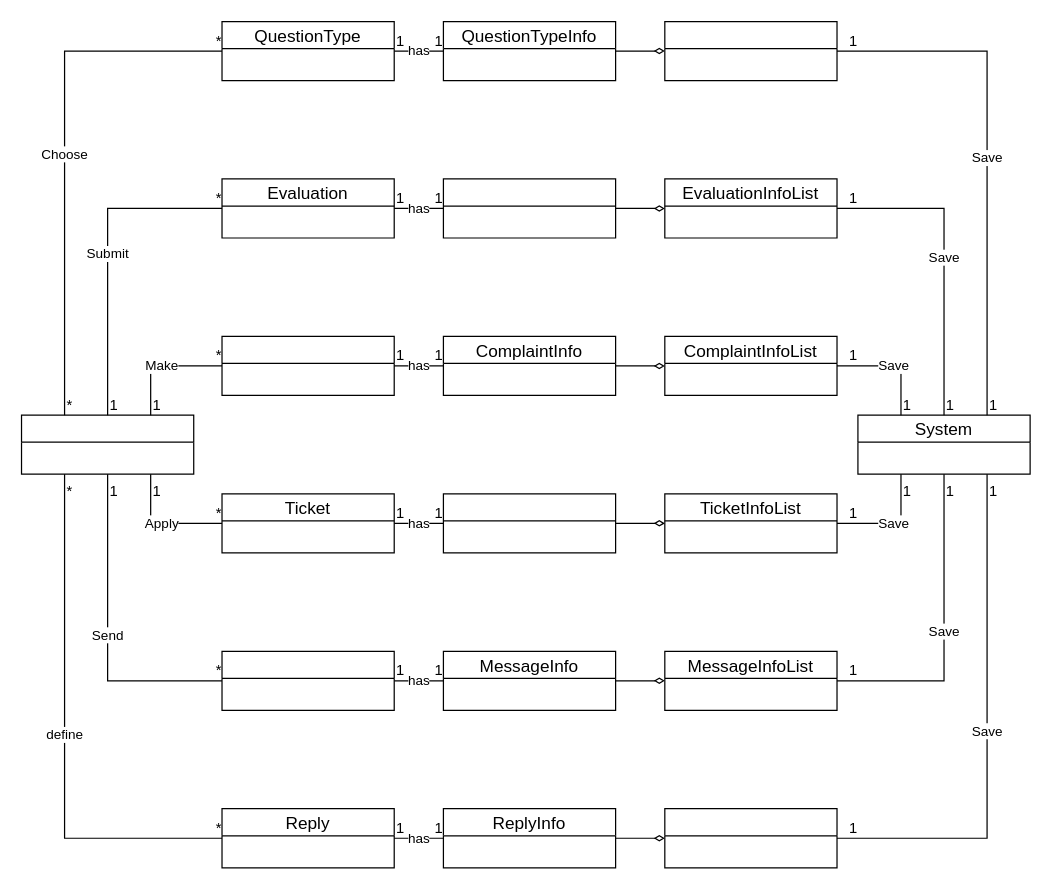
Some shapes in this 1052 by 889 pixel diagram are drawn without their labels. The shapes that lost their labels are listed below. From the top down, each one's box as (x1, y1, x2, y2) in pixels, then its label:
(664, 20, 837, 81): QuestionTypeInfoList
(442, 178, 616, 238): EvaluationInfo
(221, 335, 394, 395): Complaint
(20, 414, 194, 474): User
(442, 493, 616, 553): TicketInfo
(221, 650, 394, 710): Message
(664, 807, 837, 868): ReplyInfoList
